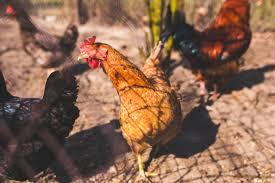AbNormal: (75, 30, 194, 183)
